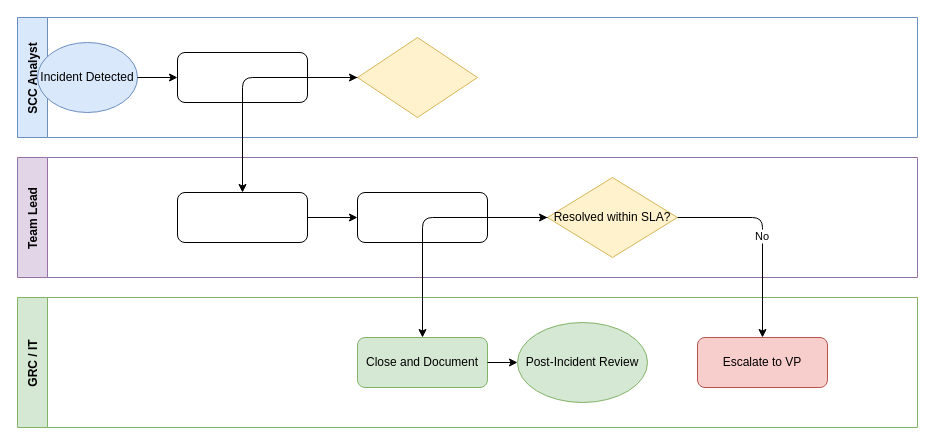
This 935x445 diagram has some shape labels left out. Each missing label, with the centre of its shape:
"Coordinate Response" goes at point (422, 217).
"Log in ServiceNow" goes at point (242, 77).
"Notify Stakeholders" goes at point (242, 217).
"Severity Assessment" goes at point (417, 77).
